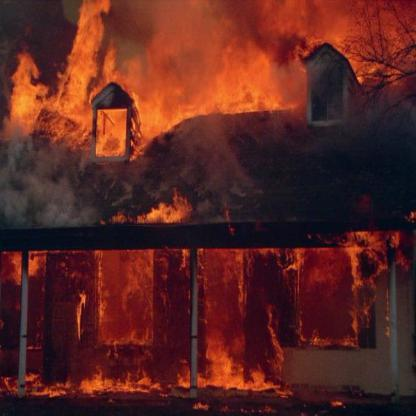fire: (294, 248, 361, 347), (203, 250, 245, 388), (96, 249, 152, 346), (201, 51, 282, 112), (58, 63, 93, 144), (8, 52, 42, 134), (131, 77, 164, 160), (72, 0, 102, 66), (96, 108, 127, 157), (145, 196, 190, 224), (41, 91, 61, 142), (164, 95, 198, 124), (345, 232, 388, 250), (103, 39, 120, 83), (100, 376, 153, 390), (361, 273, 375, 325), (350, 55, 371, 83), (5, 251, 22, 284), (80, 368, 100, 396), (270, 330, 284, 370), (246, 366, 265, 392), (368, 249, 388, 272), (266, 378, 290, 397), (26, 251, 44, 276), (75, 290, 84, 340), (244, 245, 281, 256), (176, 360, 190, 389), (25, 373, 42, 396), (282, 248, 296, 275), (0, 375, 18, 393), (44, 382, 66, 396), (395, 250, 410, 270), (266, 303, 274, 332), (388, 229, 400, 248), (108, 213, 129, 223), (197, 372, 206, 386)
